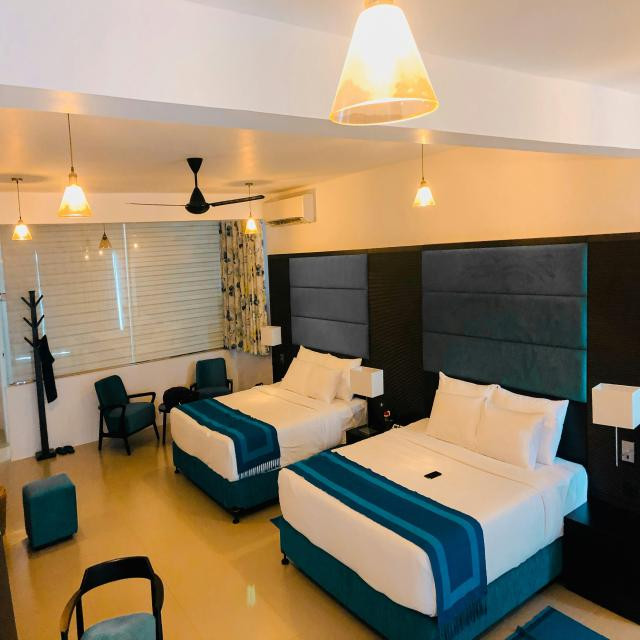floor: (0, 423, 383, 640), (472, 578, 640, 640), (81, 577, 154, 633), (68, 607, 78, 640)
